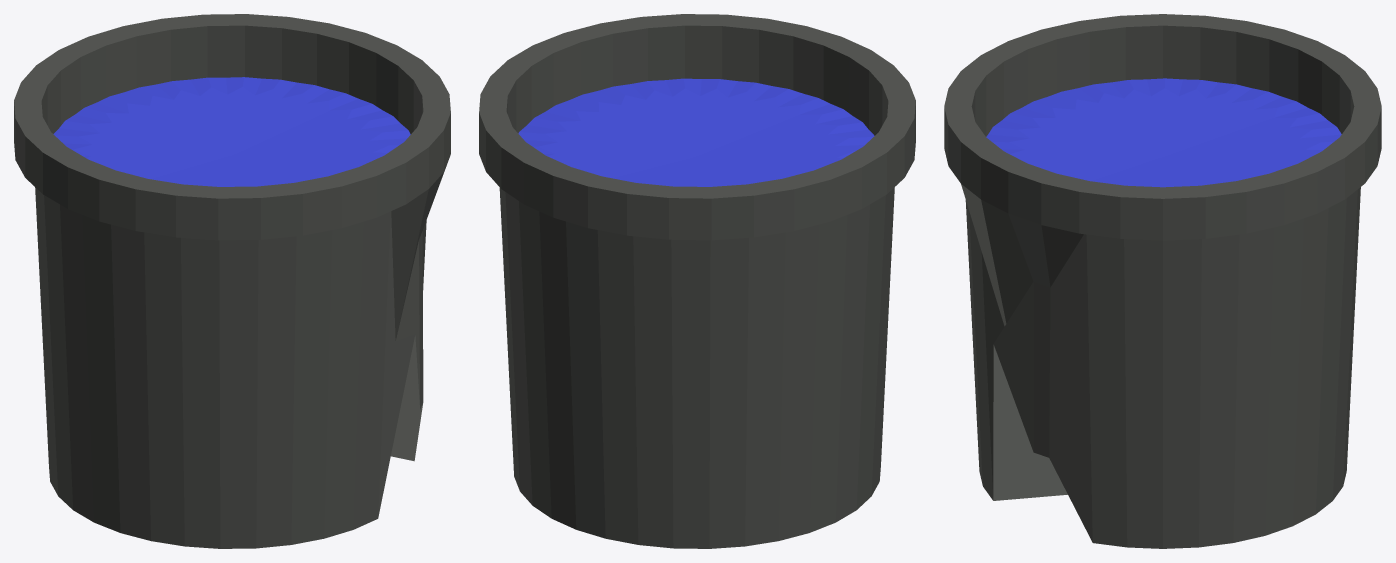
Rendered from bucket with water 1.fbx.
3 renders of one model, left to right at view 1: azimuth 30°, elevation 25°; view 2: azimuth 150°, elevation 25°; view 3: azimuth 270°, elevation 25°, orthographic.
Parts seen in each view (by area): view 1: Cylinder, Cylinder.001; view 2: Cylinder, Cylinder.001; view 3: Cylinder, Cylinder.001.
Part boxes in pixels (x1,y1,x2,y2): Cylinder: [14, 14, 450, 548]; Cylinder.001: [53, 77, 410, 186]; Cylinder: [479, 14, 915, 548]; Cylinder.001: [518, 78, 874, 186]; Cylinder: [944, 14, 1381, 548]; Cylinder.001: [986, 78, 1341, 187].
Bounding box in the file's own units: 219 × 215 × 219.
